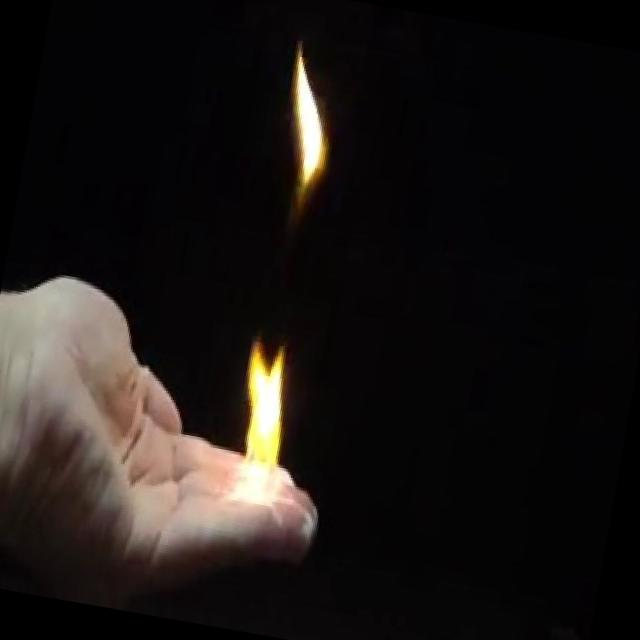Fire: (218, 327, 308, 512), (270, 48, 347, 210)
